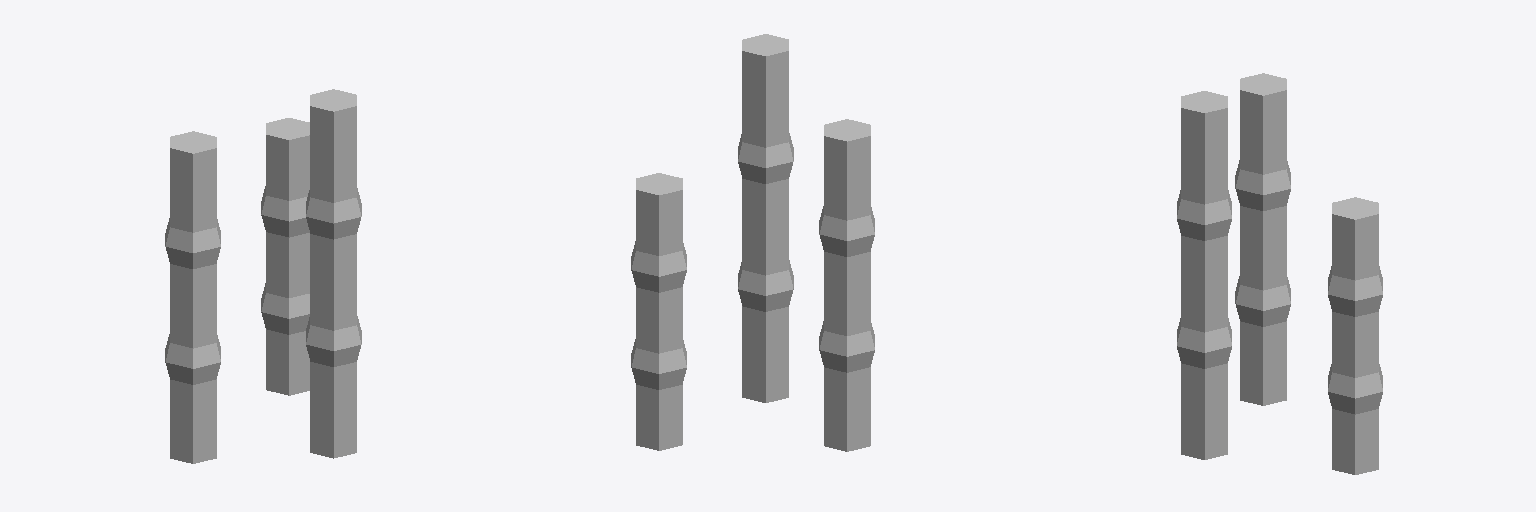
File: bamboo.obj
3 renders of one model, left to right at view 1: azimuth 30°, elevation 25°; view 2: azimuth 150°, elevation 25°; view 3: azimuth 270°, elevation 25°, orthographic.
Visible parts, largest first — view 1: bamboo; view 2: bamboo; view 3: bamboo.
Part boxes in pixels (x1,y1,x2,y2): bamboo: (165,89,361,463); bamboo: (631,34,874,451); bamboo: (1177,73,1382,474).
Bounding box in the file's own units: 3.4 × 5.7 × 3.08.